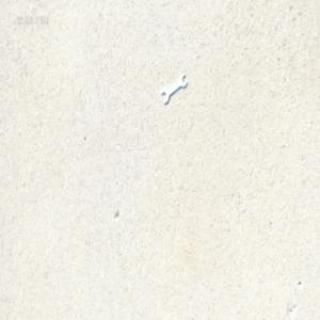Wrenchtrack_idkeyframe: (161, 72, 186, 104)
